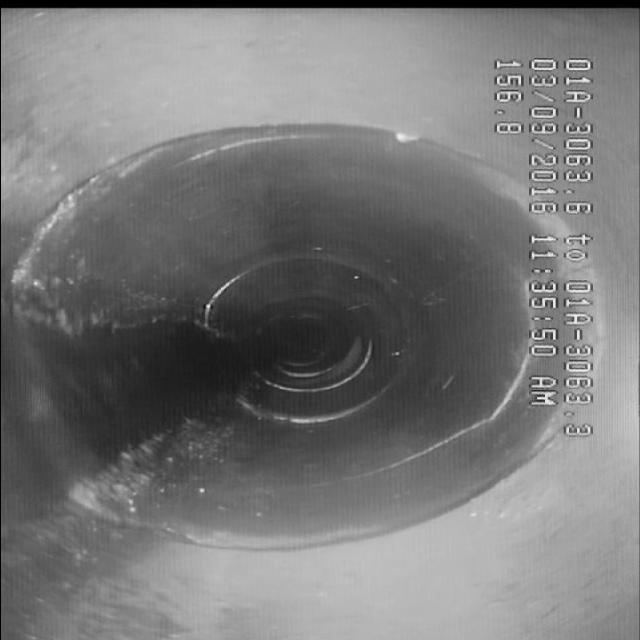Crack: (372, 396, 520, 473)
